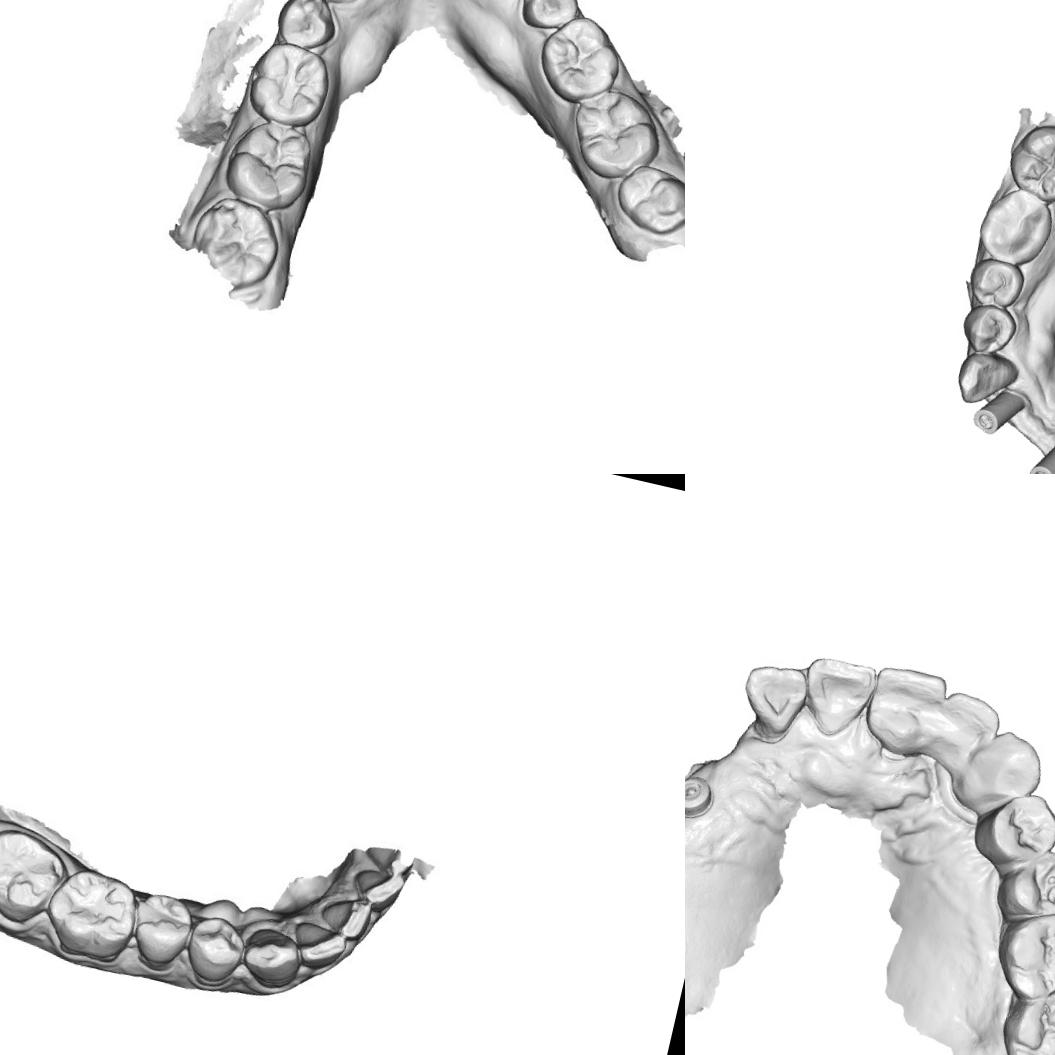canine: (952, 721, 1050, 825), (950, 346, 1023, 413), (237, 922, 307, 990)
implant: (964, 379, 1030, 444), (1024, 429, 1055, 474)
implant_minus: (685, 770, 717, 822)
incisor: (859, 660, 952, 762), (795, 650, 878, 742), (926, 686, 1007, 778), (734, 655, 809, 736), (291, 917, 349, 971), (324, 895, 369, 940)
molar: (35, 858, 148, 966), (560, 82, 668, 190), (182, 189, 290, 296), (530, 7, 631, 113), (218, 113, 320, 215), (241, 37, 338, 134), (0, 813, 69, 929), (971, 178, 1055, 273), (985, 897, 1055, 1010), (606, 157, 685, 242), (1001, 116, 1055, 207), (995, 977, 1055, 1055)
premolar: (121, 888, 202, 979), (977, 784, 1055, 871), (998, 841, 1055, 926), (956, 299, 1023, 362), (188, 912, 247, 982), (963, 254, 1029, 314), (271, 0, 344, 54), (516, 0, 589, 38)
